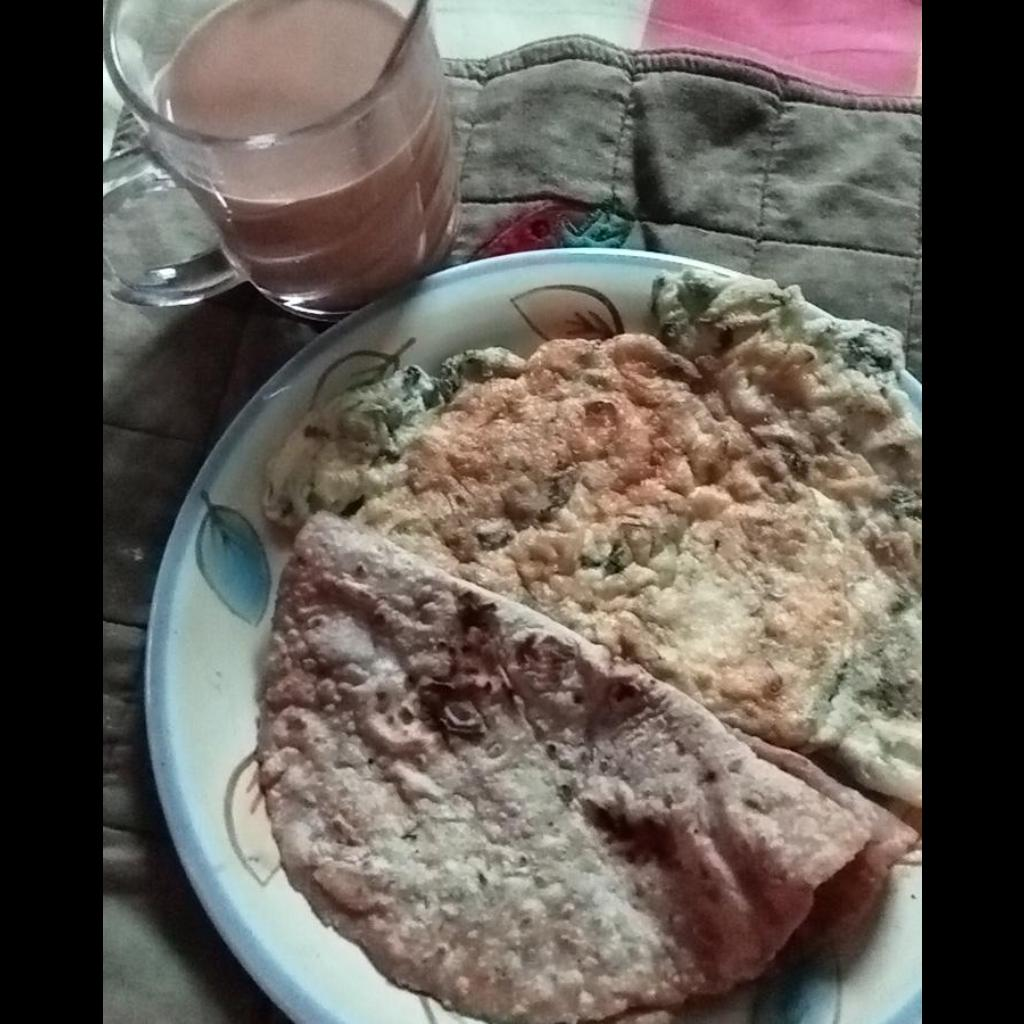cha: (155, 2, 403, 136)
egg-poached: (261, 263, 920, 811)
ruti: (254, 503, 919, 1023)
